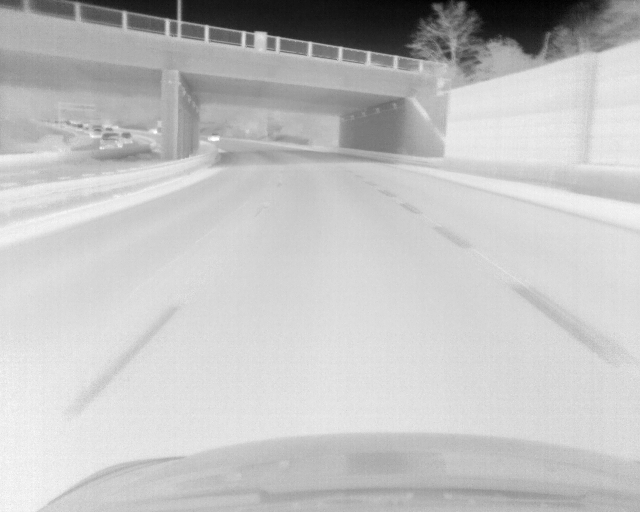car: (99, 132, 123, 151), (121, 132, 134, 145), (208, 132, 221, 141), (91, 128, 102, 138)
